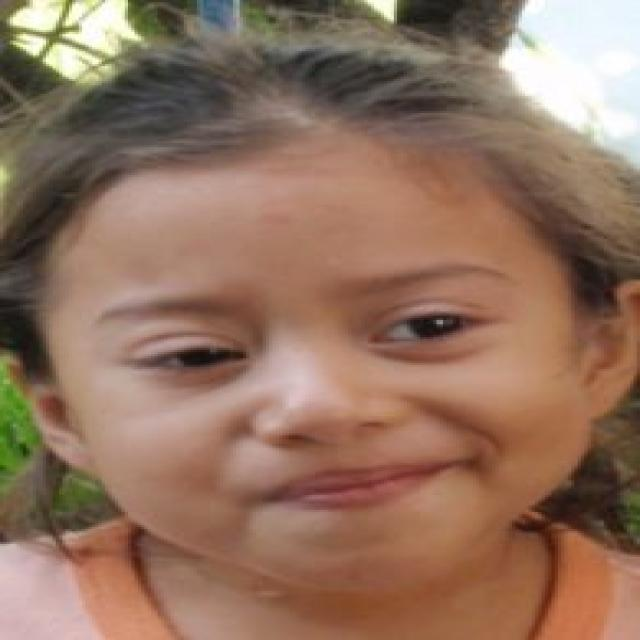normal_face: (21, 106, 640, 590)
